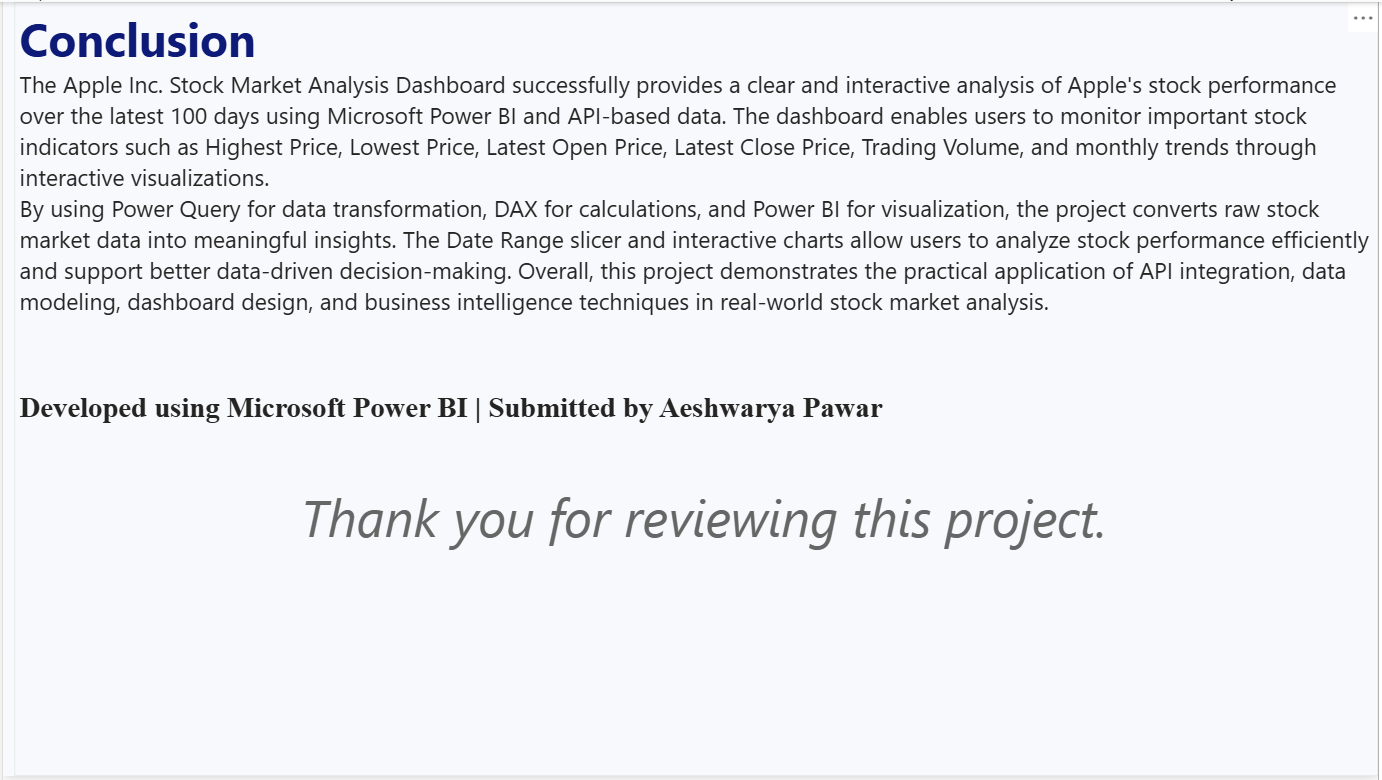

Layout of this report page (visuals, bound fields, positions):
{"tool":"powerbi","page":{"name":"Conclusion","canvas":[1280,720],"ordinal":2},"visuals":[{"type":"textbox","box":[10,0,1270,720],"z":0}]}

Visuals, with their boxes in screenshot pixels (x1, y1, x2, y2), scaled from the page's 1280x720 canvas onto the 1382x780 screenshot:
textbox: box=[11, 0, 1381, 779]
